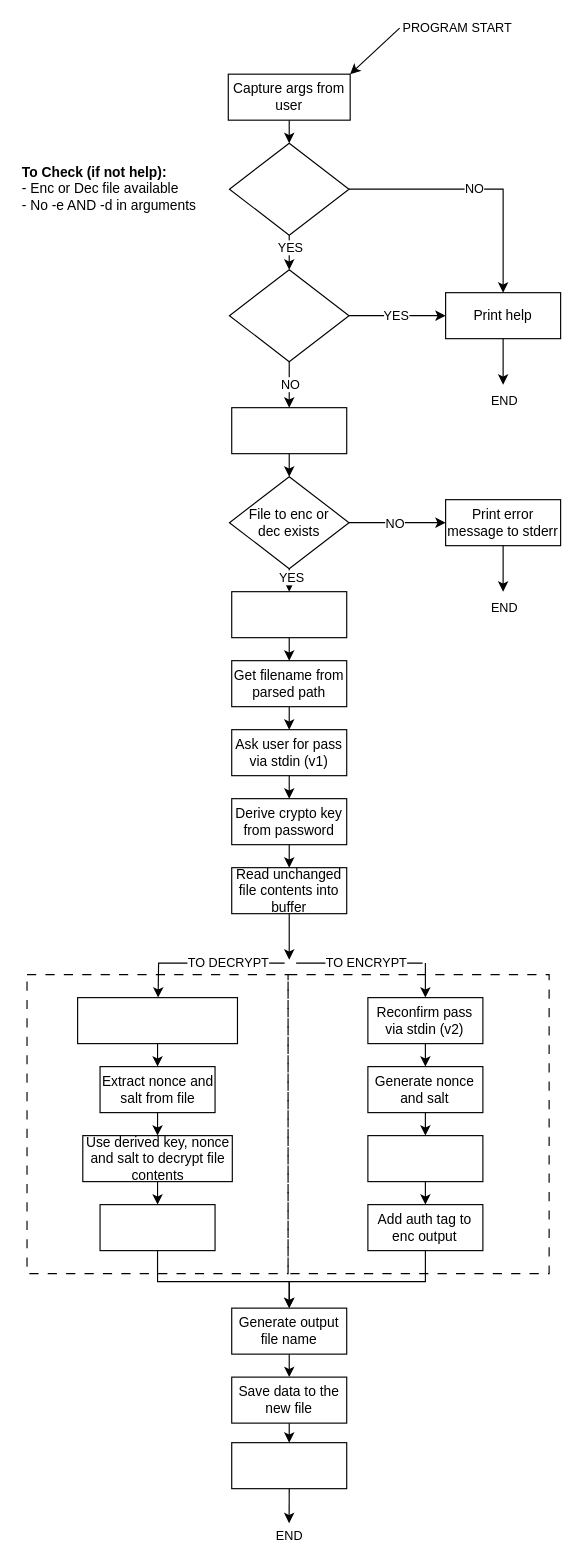
Some shapes in this 581 by 1563 pixel diagram are drawn without their labels. Here are the shapes that lost their labels. From the top down, the centre of each, then its label:
(288,188): Args are valid
(288,315): Help flag in args
(289,430): Move args into Zenc variables
(289,614): Get file directory from parsed path
(156,1020): Verify entered file starts with ZENC_MAGIC_NUM
(425,1158): Use salt and nonce to encrypt file
(157,1227): Verify auth tag to confirm data is valid
(289,1465): Cleanup password RAM memory
